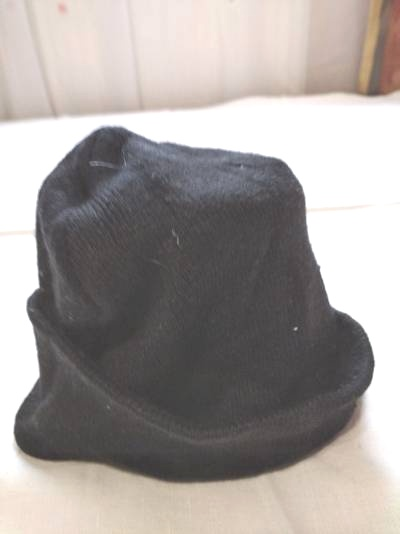Hat: (29, 109, 382, 491)
